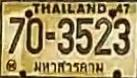0: (26, 17, 42, 53)
2: (94, 17, 112, 54)
3: (112, 17, 130, 54), (57, 17, 73, 54)
5: (75, 17, 92, 54)
7: (9, 16, 24, 53)
MKM: (31, 58, 107, 75)
